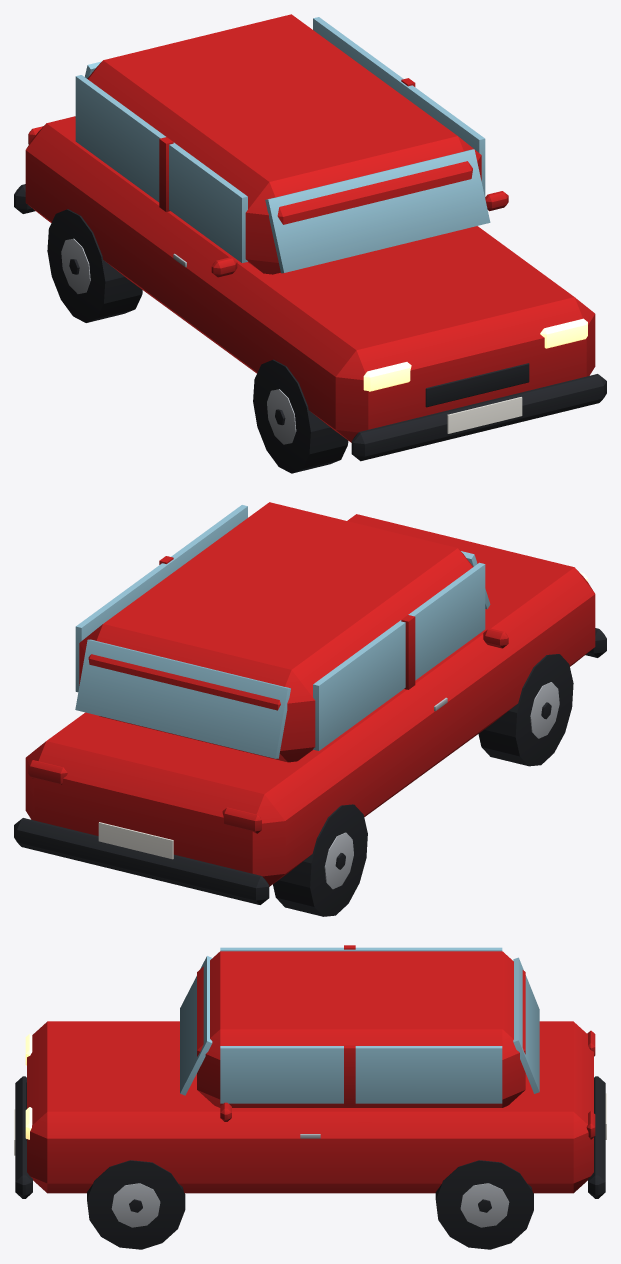
File: car_hatchback_01.fbx
3 renders of one model, top to bottom at view 1: azimuth 30°, elevation 25°; view 2: azimuth 150°, elevation 25°; view 3: azimuth 270°, elevation 25°, orthographic. The views are drawn at different scales.
Parts seen in each view (by area): view 1: car_hatchback_01_LOD0; view 2: car_hatchback_01_LOD0; view 3: car_hatchback_01_LOD0.
Boxes of the visible parts, left/top/right/bottom form: car_hatchback_01_LOD0: left=14, top=14, right=606, bottom=473; car_hatchback_01_LOD0: left=14, top=502, right=606, bottom=916; car_hatchback_01_LOD0: left=14, top=945, right=606, bottom=1249.
Size of what is drawn, in the model's own units: 1.99 by 1.56 by 4.08.
Materials: 1 (1 with a texture image).
